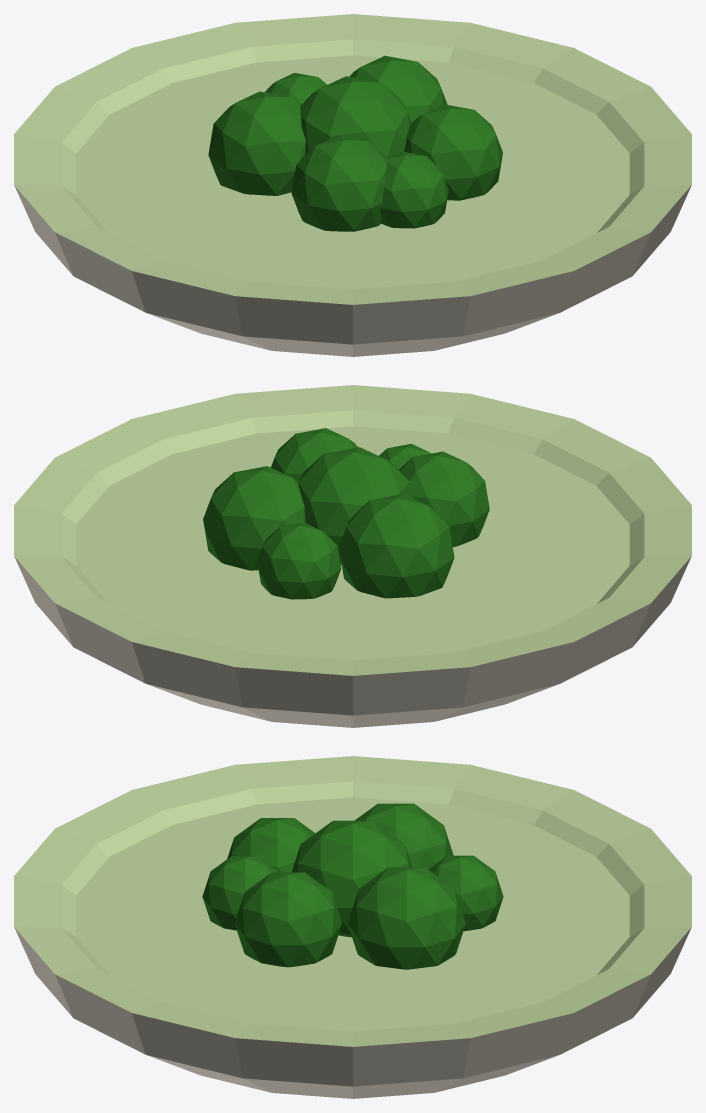
Rendered from Goo_Bowl.glb.
The picture shows the model from 3 angles, top to bottom: view 1: azimuth 30°, elevation 25°; view 2: azimuth 150°, elevation 25°; view 3: azimuth 270°, elevation 25°; orthographic projection.
Parts seen in each view (by area): view 1: _I_GooBowl; view 2: _I_GooBowl; view 3: _I_GooBowl.
Part boxes in pixels (x1=…): _I_GooBowl: x1=14, y1=14, x2=691, y2=356; _I_GooBowl: x1=14, y1=385, x2=691, y2=727; _I_GooBowl: x1=14, y1=756, x2=691, y2=1098.
Size of the model in its own units: 0.64 by 0.2 by 0.6303.
